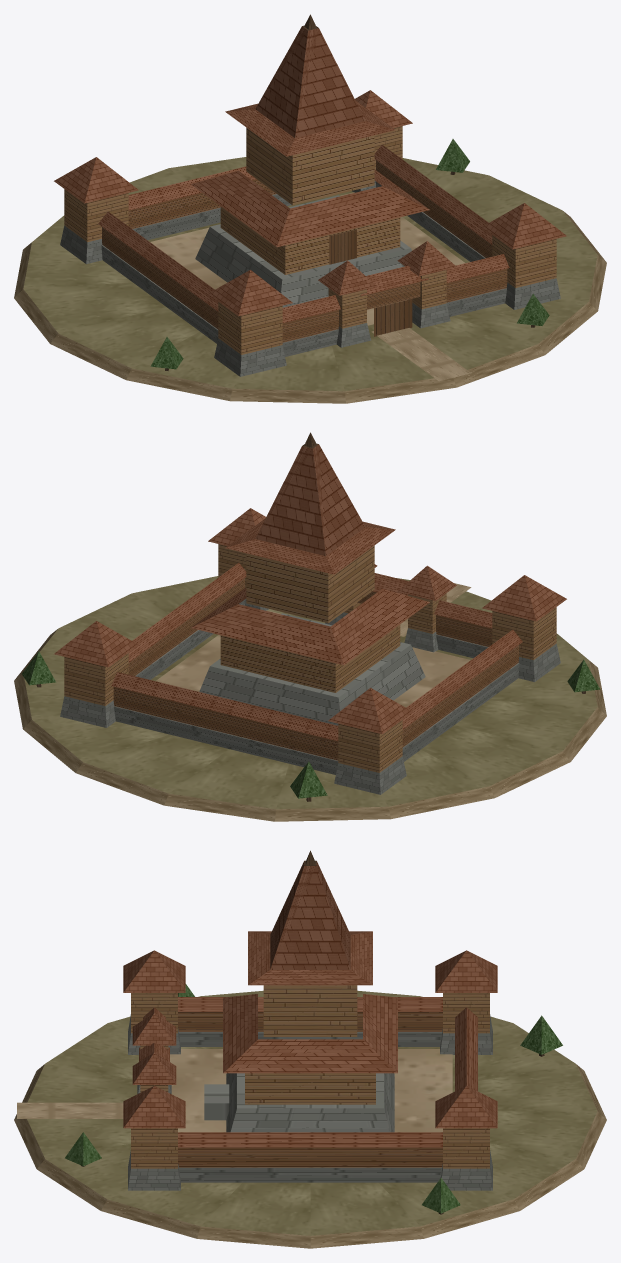
The model's file is keep_large_lod2.glb.
3 views of the same model, one above another, from view 1: azimuth 30°, elevation 25°; view 2: azimuth 150°, elevation 25°; view 3: azimuth 270°, elevation 25° (orthographic).
Visible parts, largest first — view 1: keep_large_lod2; view 2: keep_large_lod2; view 3: keep_large_lod2.
Part boxes in pixels (x1,y1,x2,y2): keep_large_lod2: (14,14,606,403); keep_large_lod2: (14,432,606,821); keep_large_lod2: (14,850,606,1248).
Bounding box in the file's own units: 1.89 × 0.9261 × 1.84.
1 material, 1 textured.
